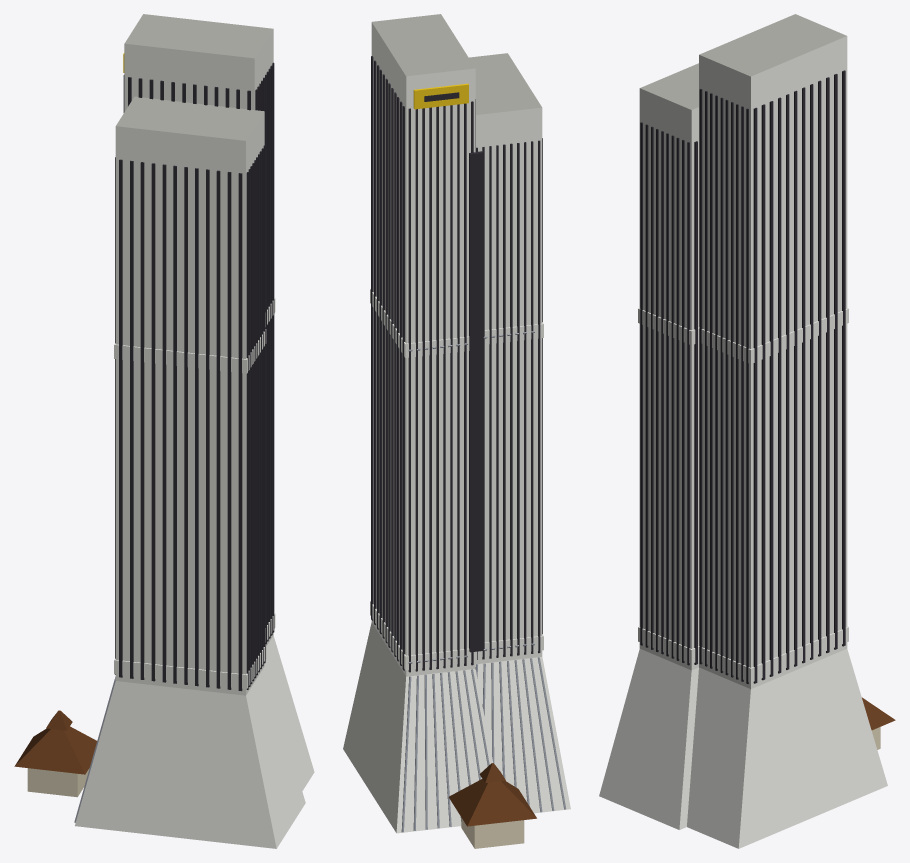
The model's file is env_lm3_maybank.fbx.
3 renders of one model, left to right at view 1: azimuth 30°, elevation 25°; view 2: azimuth 150°, elevation 25°; view 3: azimuth 270°, elevation 25°, orthographic. The views are drawn at different scales.
Parts seen in each view (by area): view 1: env_lm3_maybank_geo_LOD0; view 2: env_lm3_maybank_geo_LOD0; view 3: env_lm3_maybank_geo_LOD0.
Part boxes in pixels (x1,y1,x2,y2): env_lm3_maybank_geo_LOD0: [14, 14, 314, 848]; env_lm3_maybank_geo_LOD0: [343, 14, 570, 848]; env_lm3_maybank_geo_LOD0: [599, 14, 895, 848].
Size of what is drawn, in the model's own units: 55.25 by 159 by 56.67.
